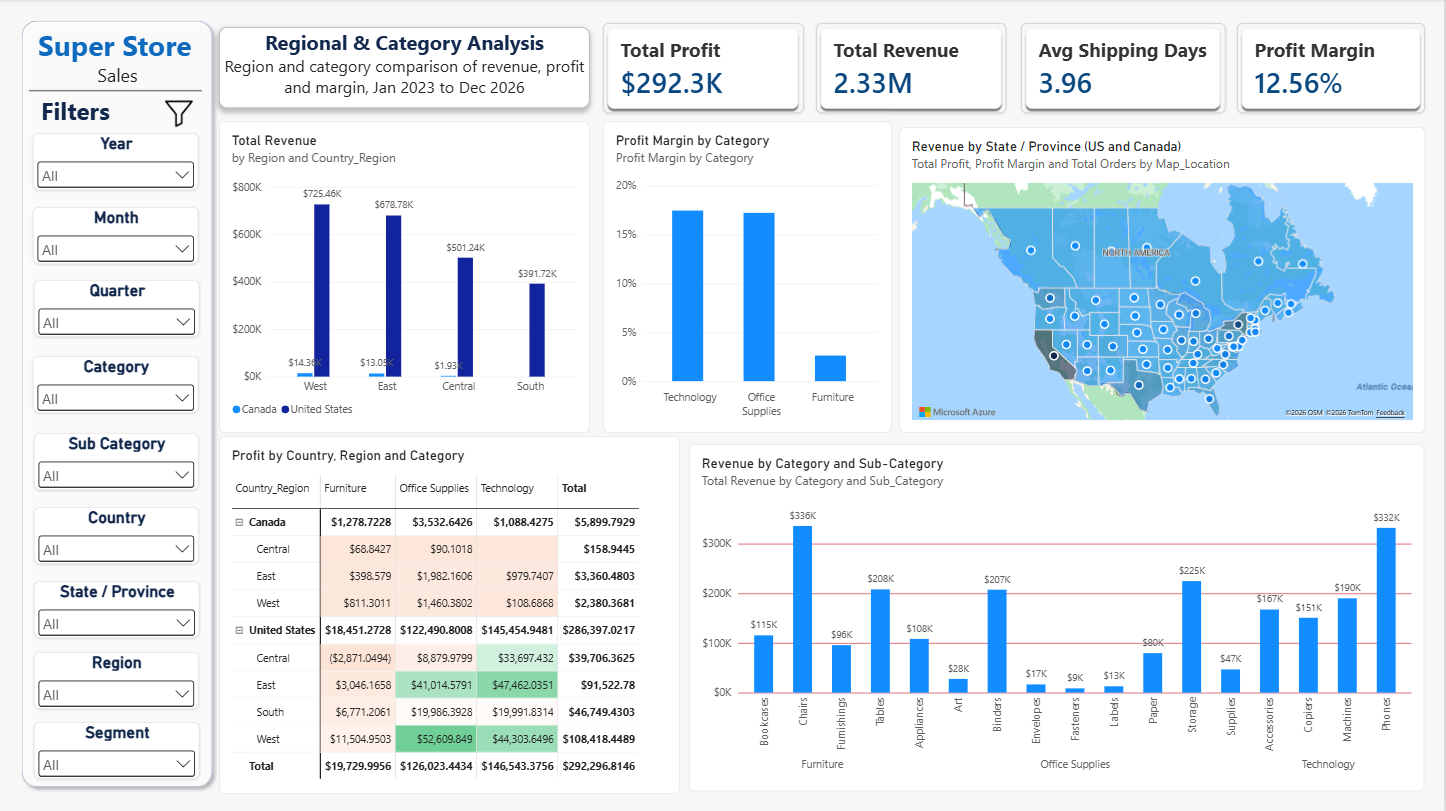

Layout of this report page (visuals, bound fields, positions):
{"tool":"powerbi","page":{"name":"Regional & Category Analysis","canvas":[1920,1080],"ordinal":3},"visuals":[{"type":"azureMap","title":"Revenue by State / Province (US and Canada)","fields":{"Category":["dim_Geography.Map_Location"]},"box":[1253.3,170,641.7,406.7],"z":15000},{"type":"clusteredColumnChart","fields":{"Category":["dim_Geography.Region"],"Series":["dim_Geography.Country_Region"],"Y":["fact_Sales.Total Revenue"]},"box":[291.7,161.7,493.3,415],"z":16000},{"type":"pivotTable","title":"Profit by Country, Region and Category","fields":{"Columns":["dim_Product.Category"],"Rows":["dim_Geography.Country_Region","dim_Geography.Region"],"Values":["fact_Sales.Total Profit"]},"box":[291.7,581.7,612.9,475.7],"z":17000},{"type":"columnChart","title":"Revenue by Category and Sub-Category","fields":{"Category":["dim_Product.Category","dim_Product.Sub_Category"],"Y":["fact_Sales.Total Revenue"]},"box":[916.7,591.7,978.3,461.7],"z":18000},{"type":"clusteredColumnChart","title":"Profit Margin by Category","fields":{"Category":["dim_Product.Category"],"Y":["fact_Sales.Profit Margin"]},"box":[801.7,161.7,440,415],"z":20000},{"type":"shape","box":[20,20,271.4,1037.1],"z":20001},{"type":"textbox","box":[35.7,125.7,128.6,52.9],"z":20002},{"type":"slicer","title":"Year","fields":{"Values":["dim_Date.Year"]},"box":[44.3,178.6,220,75.7],"z":20003},{"type":"textbox","box":[30,35.7,251.4,85.7],"z":20004},{"type":"shape","box":[38.6,100,230,44.3],"z":20005},{"type":"image","box":[220,127.1,37.1,50],"z":20006},{"type":"slicer","title":"Month","fields":{"Values":["dim_Date.Month_Name"]},"box":[44.3,277.1,220,75.7],"z":20007},{"type":"slicer","title":"Quarter","fields":{"Values":["dim_Date.Quarter"]},"box":[45.7,374.3,220,75.7],"z":20008},{"type":"slicer","title":"Category","fields":{"Values":["dim_Product.Category"]},"box":[44.3,474.3,220,75.7],"z":20009},{"type":"slicer","title":"Sub Category","fields":{"Values":["dim_Product.Sub_Category"]},"box":[45.7,577.1,218.6,75.7],"z":20010},{"type":"slicer","title":"Country","fields":{"Values":["dim_Geography.Country_Region"]},"box":[45.7,675.7,218.6,75.7],"z":20011},{"type":"slicer","title":"State / Province","fields":{"Values":["dim_Geography.State_Province"]},"box":[45.7,774.3,220,75.7],"z":20012},{"type":"slicer","title":"Region","fields":{"Values":["dim_Geography.Region"]},"box":[45.7,868.6,218.6,75.7],"z":20013},{"type":"slicer","title":"Segment","fields":{"Values":["dim_Customer.Segment"]},"box":[45.7,961.4,220,75.7],"z":20014},{"type":"textbox","box":[291.7,36.7,493.3,108.3],"z":20015},{"type":"cardVisual","fields":{"Data":["fact_Sales.Total Profit"]},"box":[801.7,31.7,266.7,120],"z":20016},{"type":"cardVisual","fields":{"Data":["fact_Sales.Total Revenue"]},"box":[1085,31.7,253.3,120],"z":20017},{"type":"cardVisual","fields":{"Data":["fact_Sales.Avg Shipping Days"]},"box":[1358.3,31.7,271.7,120],"z":20018},{"type":"cardVisual","fields":{"Data":["fact_Sales.Profit Margin"]},"box":[1645,31.7,250,120],"z":20019}]}

Visuals, with their boxes in screenshot pixels (x1, y1, x2, y2), scaled from the page's 1920x1080 canvas onto the 1446x811 screenshot:
"Revenue by State / Province (US and Canada)" azureMap: l=944, t=128, r=1427, b=433
clusteredColumnChart - dim_Geography.Region x dim_Geography.Country_Region: l=220, t=121, r=591, b=433
"Profit by Country, Region and Category" pivotTable: l=220, t=437, r=681, b=794
"Revenue by Category and Sub-Category" columnChart: l=690, t=444, r=1427, b=791
"Profit Margin by Category" clusteredColumnChart: l=604, t=121, r=935, b=433
shape: l=15, t=15, r=219, b=794
textbox: l=27, t=94, r=124, b=134
"Year" slicer: l=33, t=134, r=199, b=191
textbox: l=23, t=27, r=212, b=91
shape: l=29, t=75, r=202, b=108
image: l=166, t=95, r=194, b=133
"Month" slicer: l=33, t=208, r=199, b=265
"Quarter" slicer: l=34, t=281, r=200, b=338
"Category" slicer: l=33, t=356, r=199, b=413
"Sub Category" slicer: l=34, t=433, r=199, b=490
"Country" slicer: l=34, t=507, r=199, b=564
"State / Province" slicer: l=34, t=581, r=200, b=638
"Region" slicer: l=34, t=652, r=199, b=709
"Segment" slicer: l=34, t=722, r=200, b=779
textbox: l=220, t=28, r=591, b=109
cardVisual - fact_Sales.Total Profit: l=604, t=24, r=805, b=114
cardVisual - fact_Sales.Total Revenue: l=817, t=24, r=1008, b=114
cardVisual - fact_Sales.Avg Shipping Days: l=1023, t=24, r=1228, b=114
cardVisual - fact_Sales.Profit Margin: l=1239, t=24, r=1427, b=114
